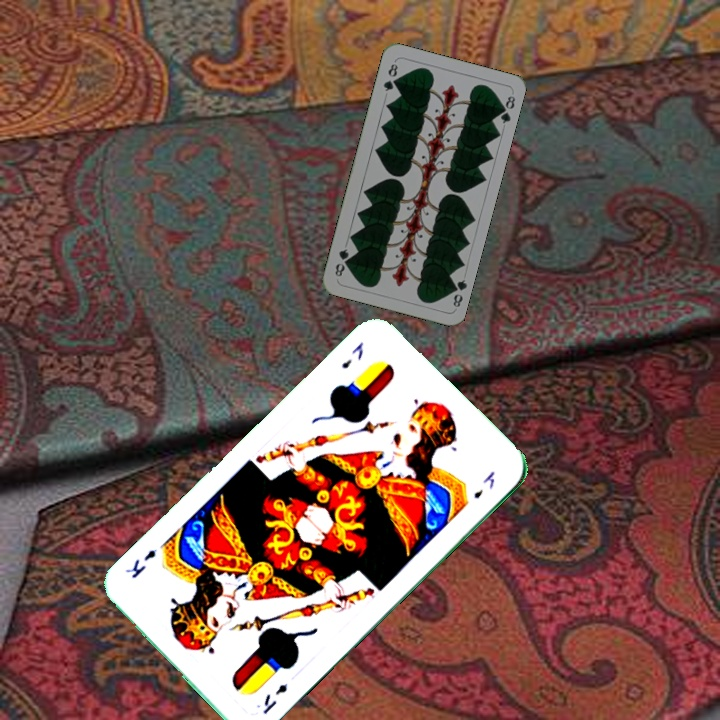EK: (258, 680, 290, 717), (337, 338, 366, 372)
G8: (446, 275, 469, 310), (379, 59, 400, 94)
